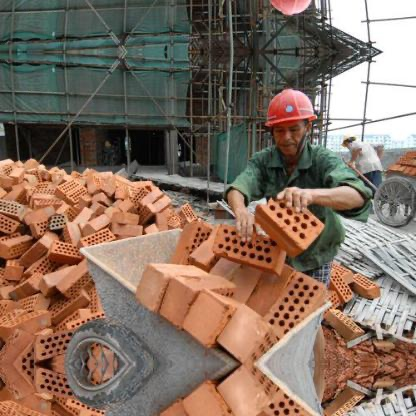Safety Helmet: (261, 85, 316, 161), (336, 132, 359, 150)
